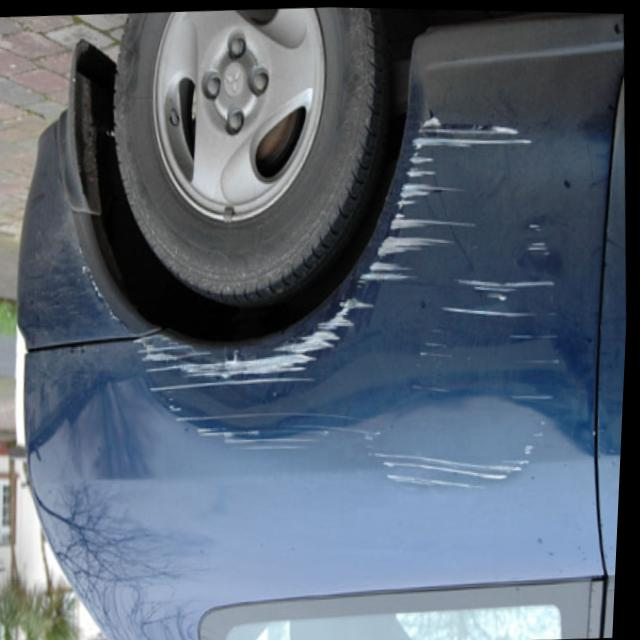Scratch: (124, 117, 566, 492)
